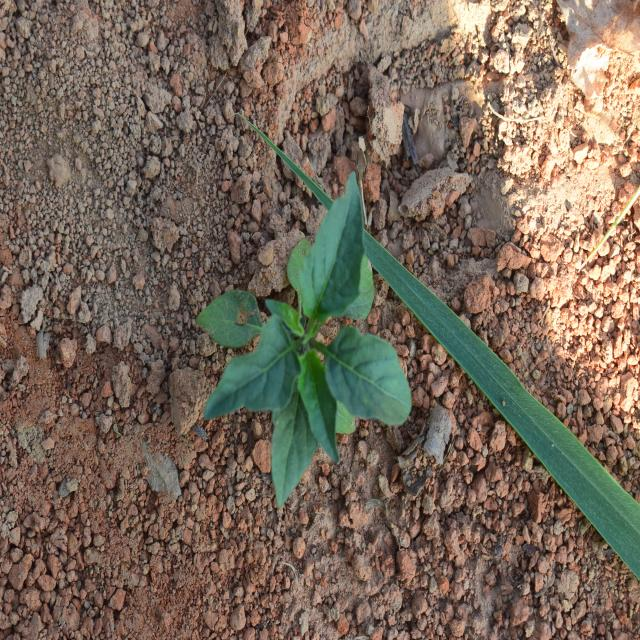Black_nightshade: (195, 184, 429, 471)
